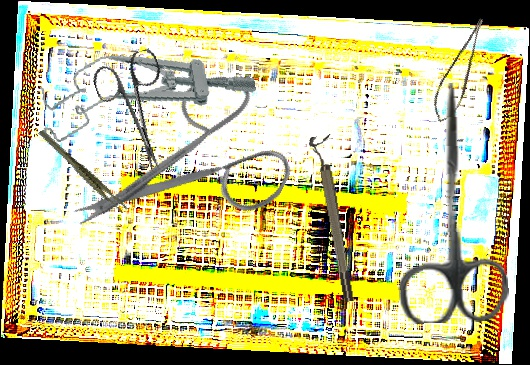Fixation Ring: (308, 134, 357, 304)
Iris Scissors: (70, 43, 316, 298), (391, 81, 510, 325), (88, 47, 190, 180)
Micro Scissor: (422, 15, 503, 128)
Speculum: (33, 31, 259, 145)
Tissue Forceps: (37, 116, 129, 226)
